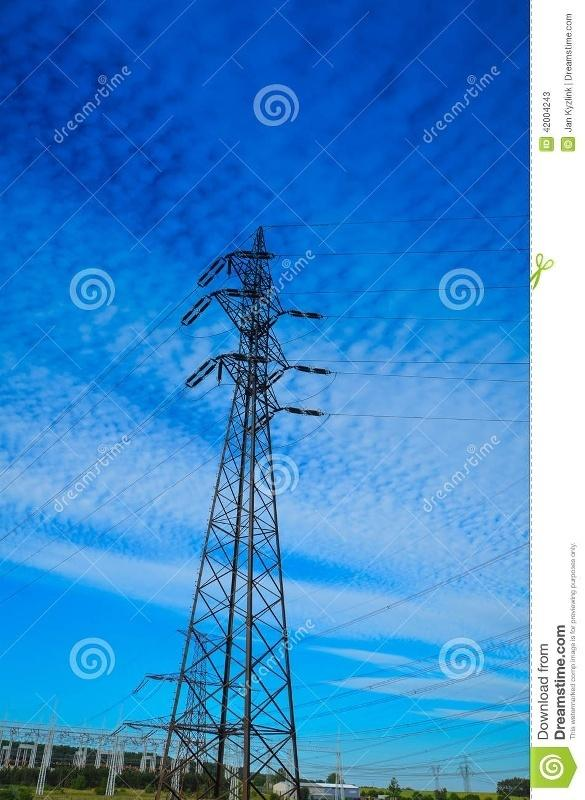power_tower: (177, 223, 334, 735)
